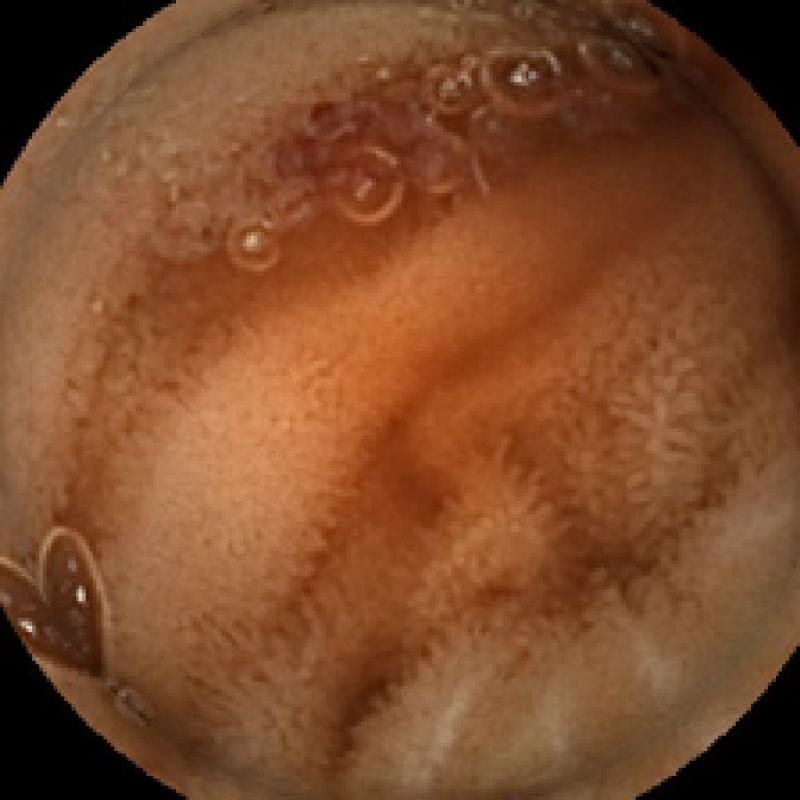bleeding: (268, 72, 482, 207)
